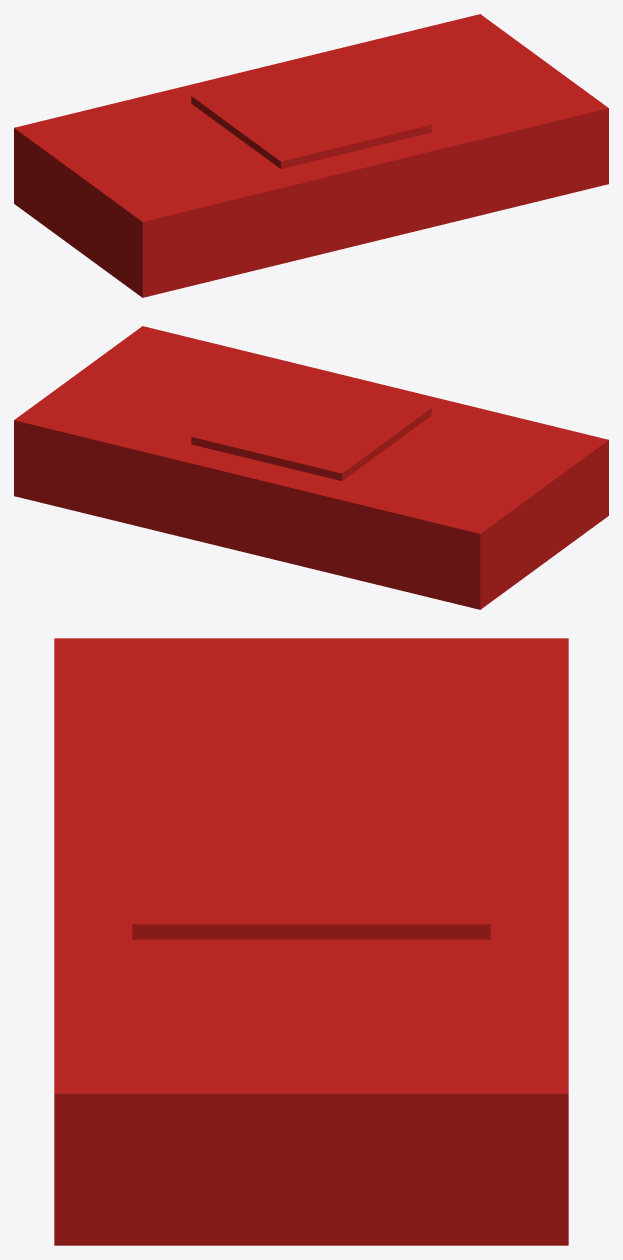
File: fgto.obj
The picture shows the model from 3 angles, top to bottom: view 1: azimuth 30°, elevation 25°; view 2: azimuth 150°, elevation 25°; view 3: azimuth 270°, elevation 25°; orthographic projection. The views are drawn at different scales.
Visible parts, largest first — view 1: fgto; view 2: fgto; view 3: fgto.
Part boxes in pixels (x1,y1,x2,y2): fgto: (14,14,608,297); fgto: (14,326,608,609); fgto: (54,638,568,1245).
Bounding box in the file's own units: 450 × 77 × 215.
